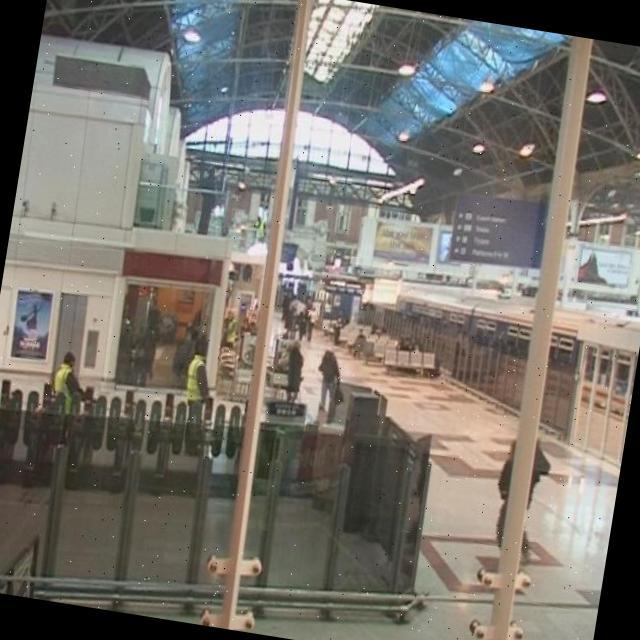person: (306, 344, 352, 424), (176, 332, 223, 405), (276, 336, 312, 405), (46, 349, 91, 399)
